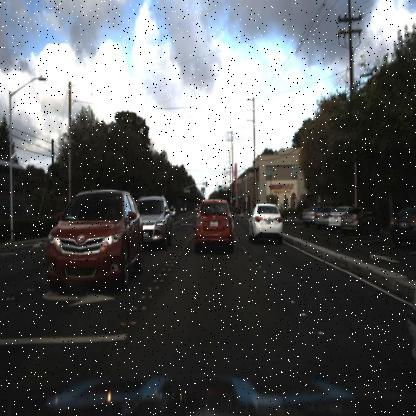car: (41, 182, 150, 300), (186, 190, 242, 258), (247, 195, 287, 242), (142, 191, 172, 253), (390, 202, 416, 249), (340, 203, 371, 233), (326, 205, 340, 235), (314, 204, 328, 228), (302, 202, 314, 228)
